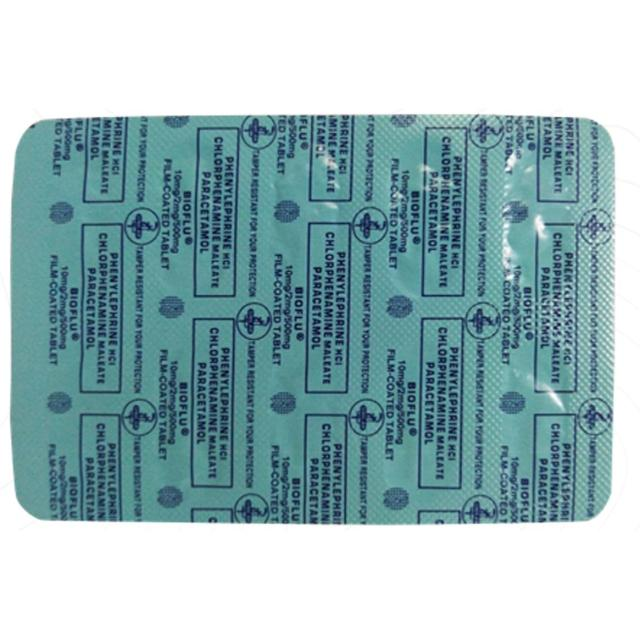blister: (7, 110, 618, 524)
